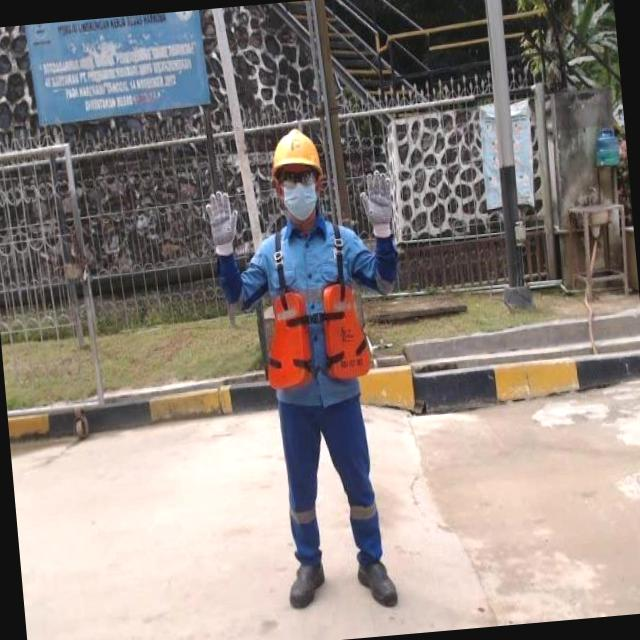vest: (259, 281, 376, 396)
